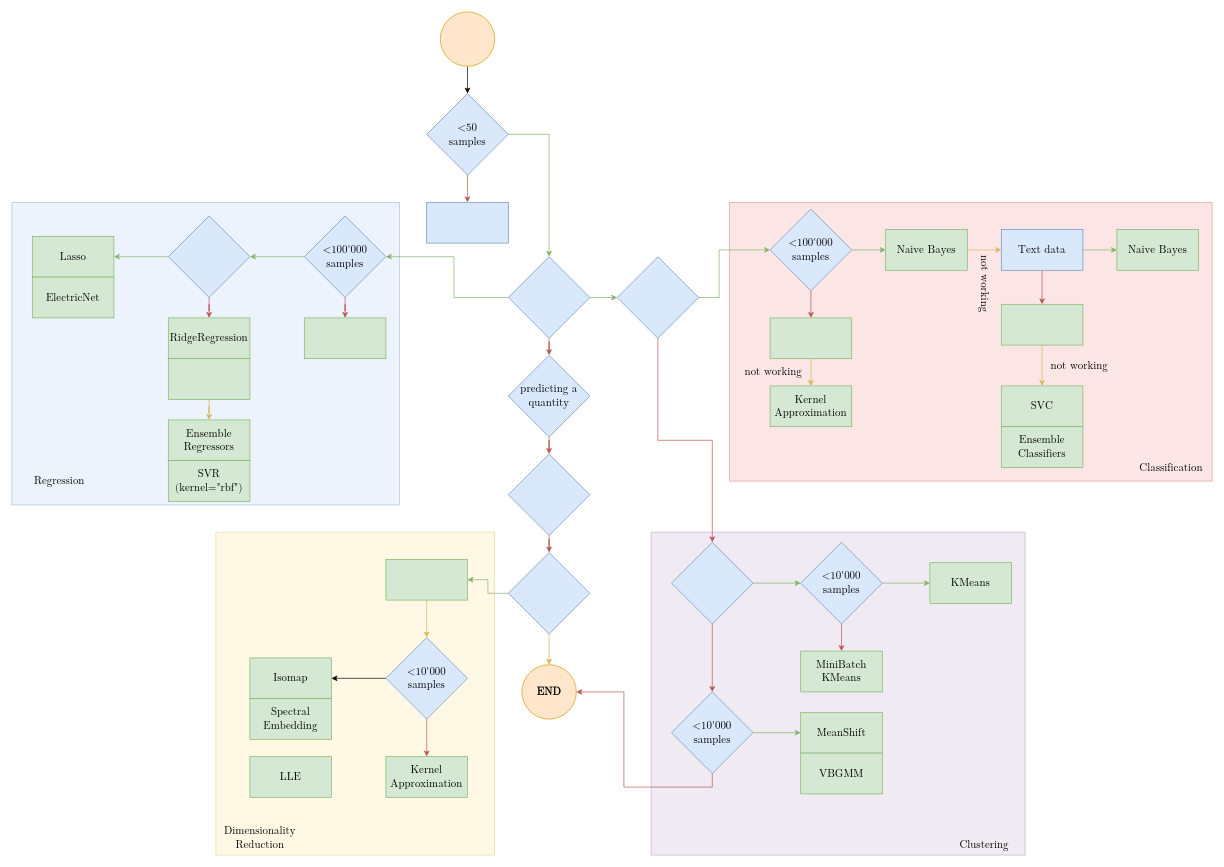
Image size: 1224x867. Some labels were removed from this diagram. Each missing label, with the box of its shape:
do you have labeled data: (616, 256, 699, 338)
few features should be important: (168, 215, 250, 298)
get more data: (426, 202, 508, 243)
just looking: (508, 453, 590, 536)
k-neighbours Classifier: (1001, 304, 1083, 345)
number of categories known: (671, 542, 753, 624)
predicting a category: (508, 256, 590, 338)
predicting structure: (508, 552, 590, 634)
Randomised PCA: (385, 559, 468, 600)
SGD Classifier: (769, 317, 852, 359)
SGD Regressor: (304, 317, 386, 359)
START: (440, 11, 495, 66)
SVR (kernel="linear"): (168, 358, 250, 400)
